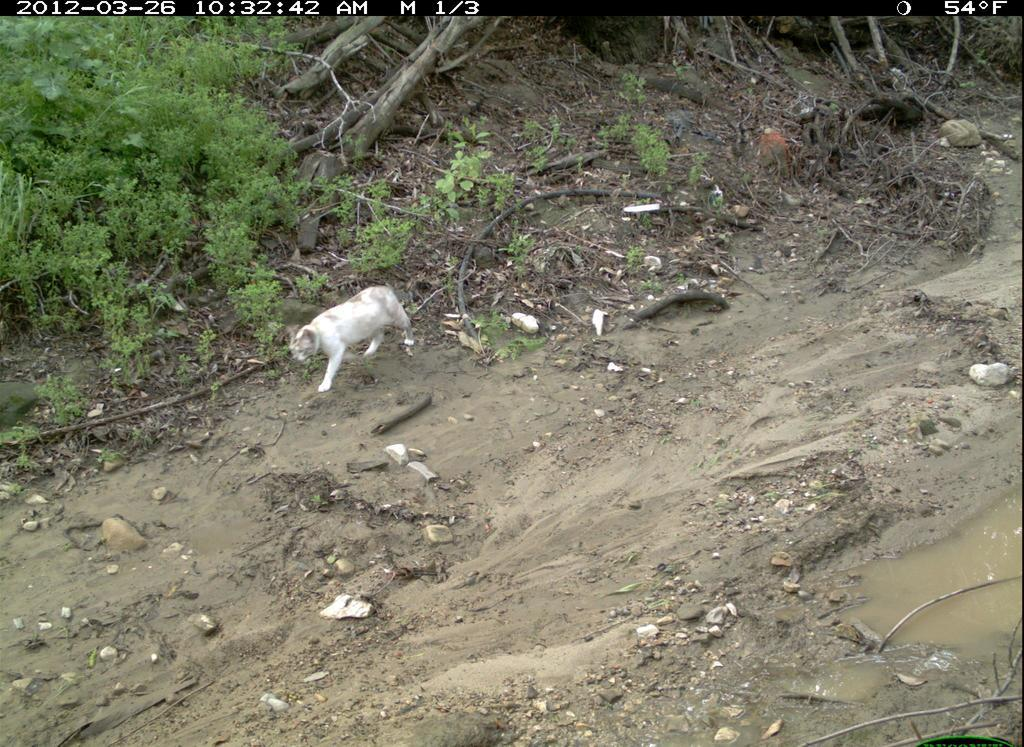cat: (269, 271, 428, 402)
